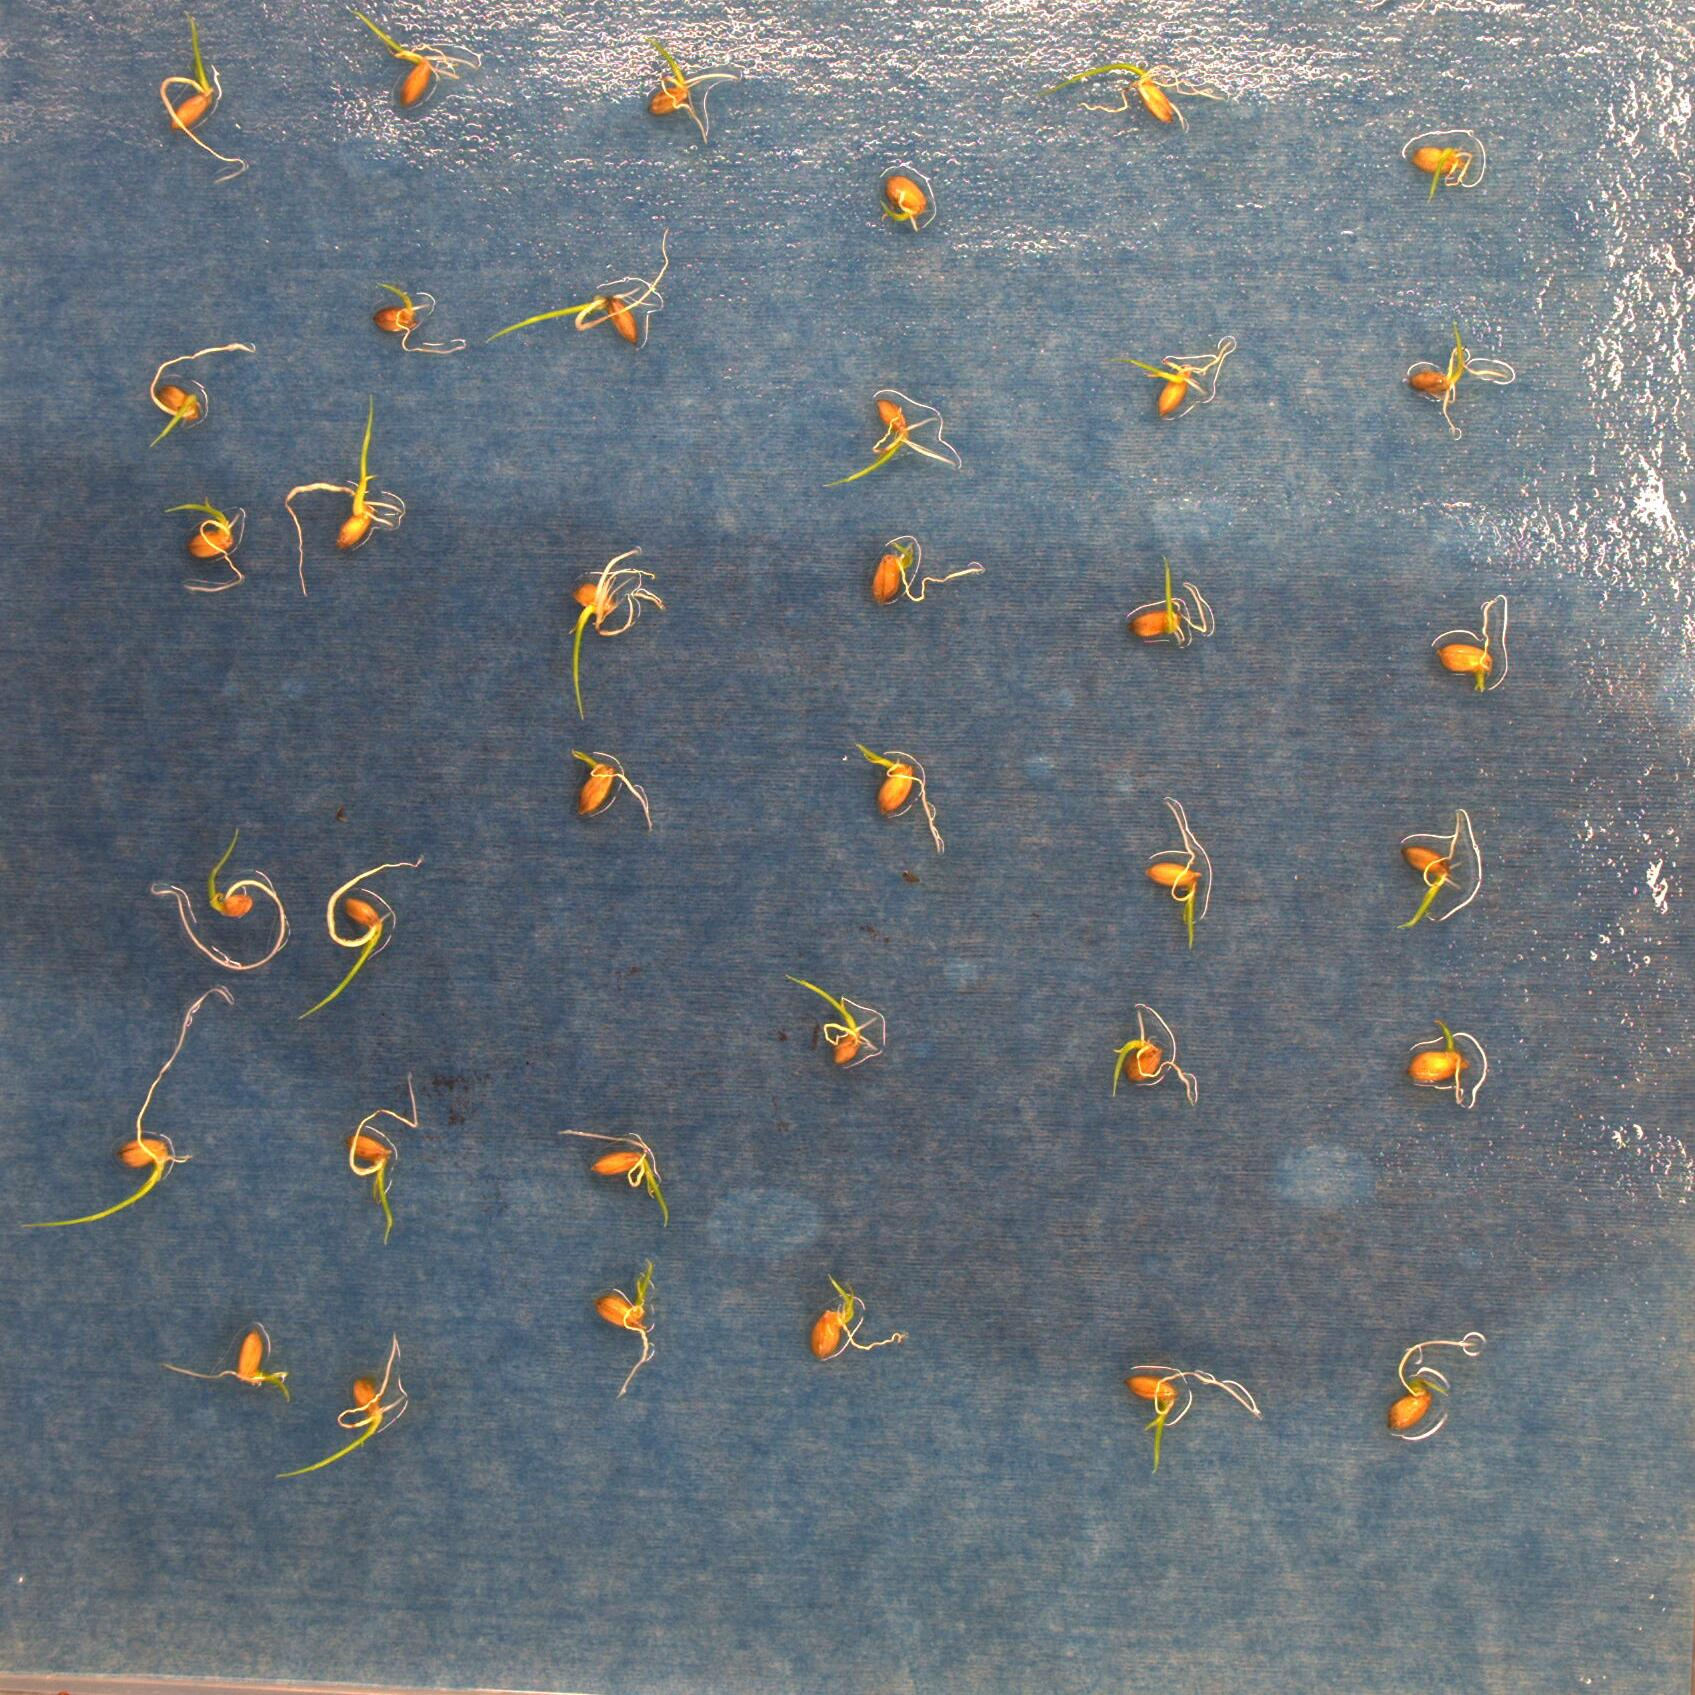not sprout: (1437, 594, 1496, 694)
sprout: (22, 986, 234, 1232), (286, 393, 407, 599), (486, 227, 671, 345), (298, 851, 425, 1021), (149, 827, 290, 970), (276, 1330, 407, 1475), (570, 543, 667, 717), (1128, 1361, 1260, 1470), (1405, 318, 1513, 445), (341, 1073, 416, 1246), (351, 14, 480, 112), (633, 26, 740, 143), (157, 19, 241, 161), (557, 1125, 672, 1229), (826, 396, 964, 480), (781, 962, 886, 1069), (144, 341, 255, 444), (160, 1321, 293, 1405), (851, 733, 945, 849), (1045, 61, 1197, 130), (802, 1270, 906, 1363), (1392, 809, 1468, 930), (594, 1256, 660, 1395), (1110, 1012, 1198, 1111), (1383, 1343, 1478, 1434), (1124, 338, 1232, 418), (161, 497, 251, 591), (866, 540, 990, 605), (365, 276, 463, 355), (1147, 795, 1198, 945), (1136, 553, 1212, 650), (1406, 1018, 1475, 1114), (573, 750, 653, 826), (1406, 137, 1476, 200), (879, 172, 924, 234)
